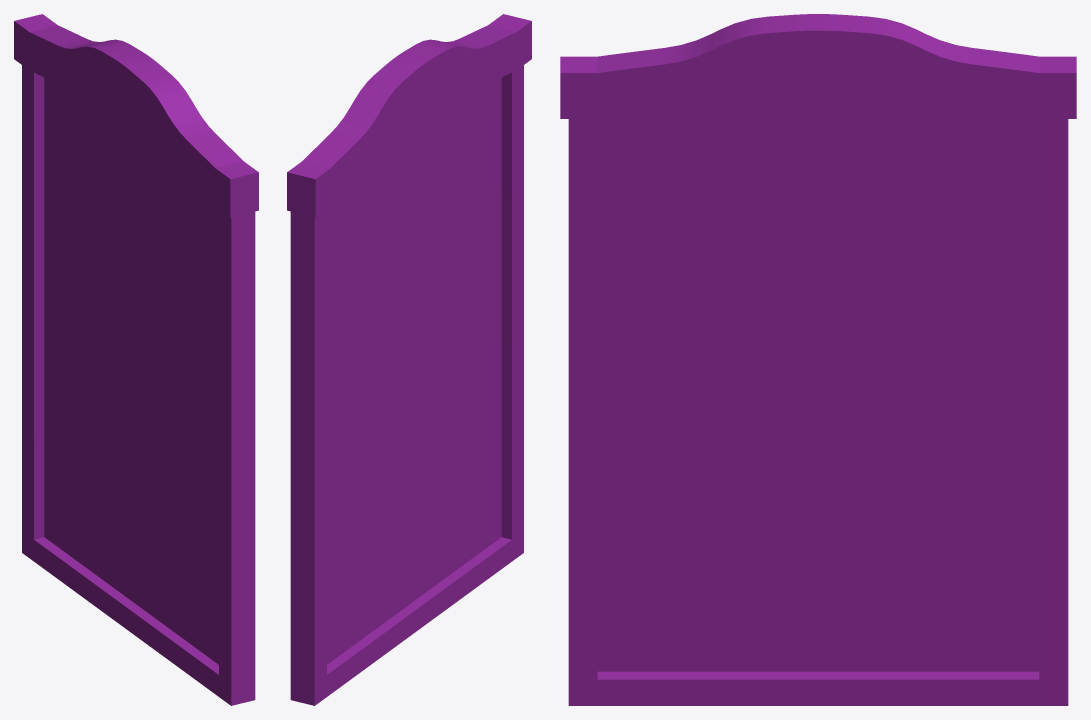
File: Mirror.fbx
3 views of the same model, side by side, from view 1: azimuth 30°, elevation 25°; view 2: azimuth 150°, elevation 25°; view 3: azimuth 270°, elevation 25° (orthographic). The views are drawn at different scales.
Visible parts, largest first — view 1: Mirror_Glass, Mirror; view 2: Mirror_Glass, Mirror; view 3: Mirror_Glass, Mirror.
Boxes of the visible parts, bbox=[...] form: Mirror_Glass: bbox=[44, 77, 218, 664]; Mirror: bbox=[14, 14, 258, 705]; Mirror_Glass: bbox=[327, 77, 501, 664]; Mirror: bbox=[287, 14, 531, 705]; Mirror_Glass: bbox=[597, 76, 1039, 671]; Mirror: bbox=[560, 14, 1076, 705].
Bounding box in the file's own units: 0.6481 × 12.34 × 8.54.
